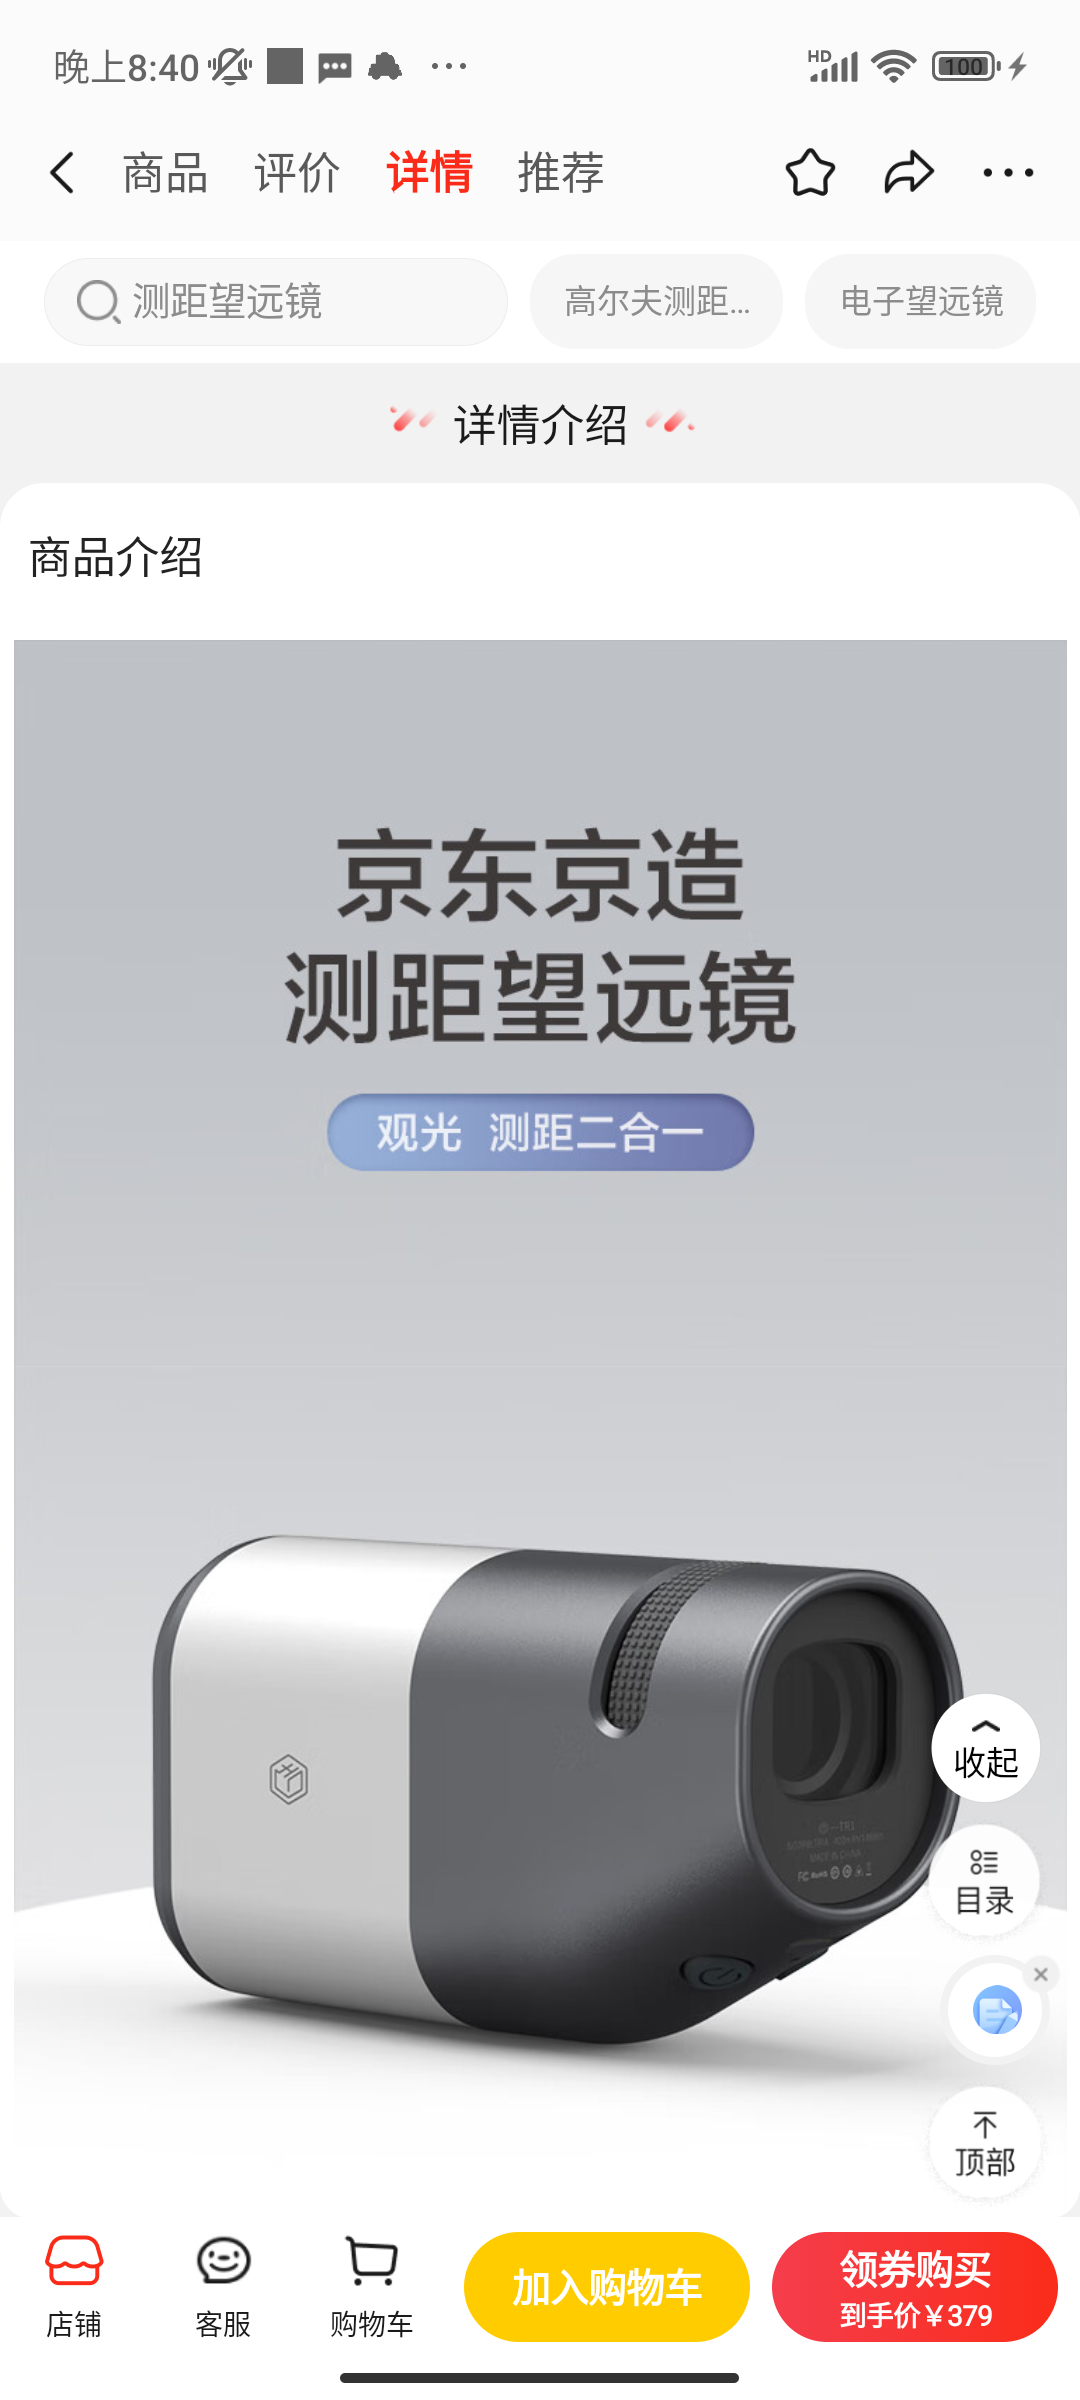ui_group: (20, 2222, 141, 2376), (161, 2222, 280, 2369), (314, 2226, 428, 2362), (929, 1820, 1039, 1945), (932, 2088, 1043, 2210), (939, 1693, 1042, 1812)
